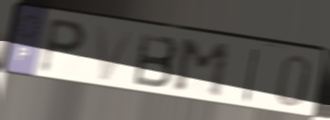0: (273, 53, 313, 110)
B: (131, 31, 181, 91)
I: (240, 46, 262, 105)
M: (172, 37, 233, 101)
P: (36, 15, 90, 78)
V: (94, 23, 138, 84)
